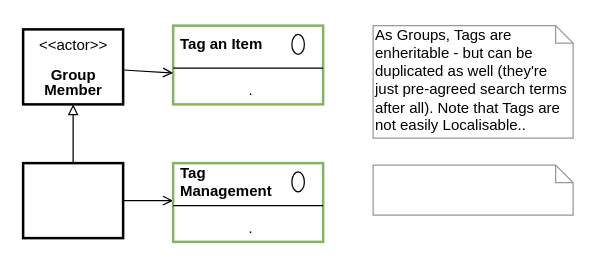
Image size: 595x266. Some labels were removed from this diagram. The centre of each missing label's shape, as x and y in pixels:
<<actor>> Group Tag Admin: the point at 72,200
Tag Management includes creation of Aliases ("Mgmt" for "Management"): the point at 472,189
